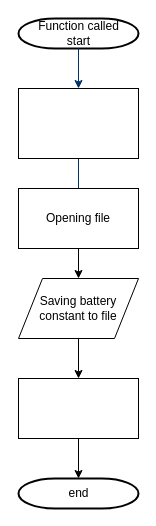
Some shapes in this 156 by 526 pixel diagram are drawn without their labels. The shapes that lost their labels are listed below. From the top down, each one's centre as x and y in pixels, then its label:
At pixel 78 123: "Calculating battery constant".
At pixel 78 408: "Closing file".
